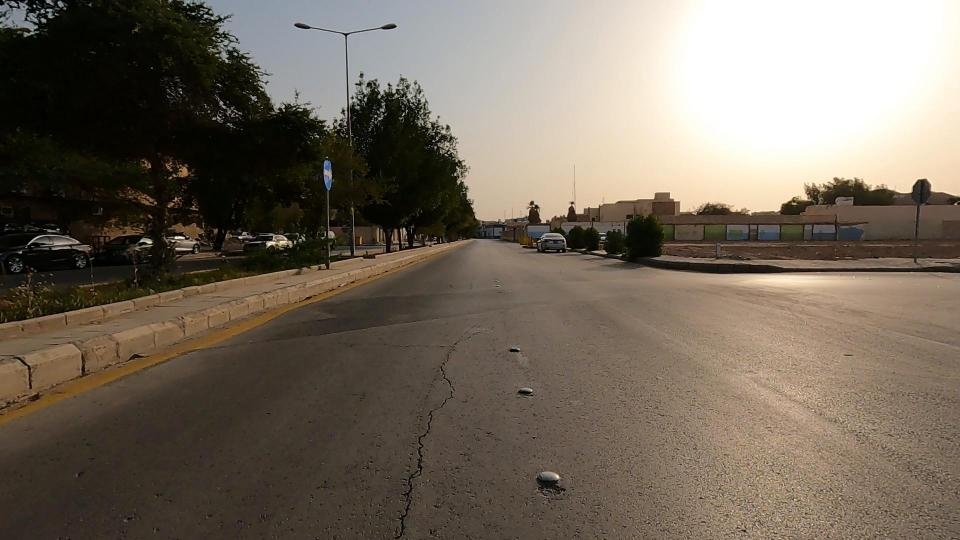BAD_BILLBOARD: (767, 193, 884, 270), (735, 192, 819, 275), (689, 195, 776, 270), (634, 201, 730, 261)
POTHOLES: (356, 261, 527, 468), (315, 373, 512, 540)
